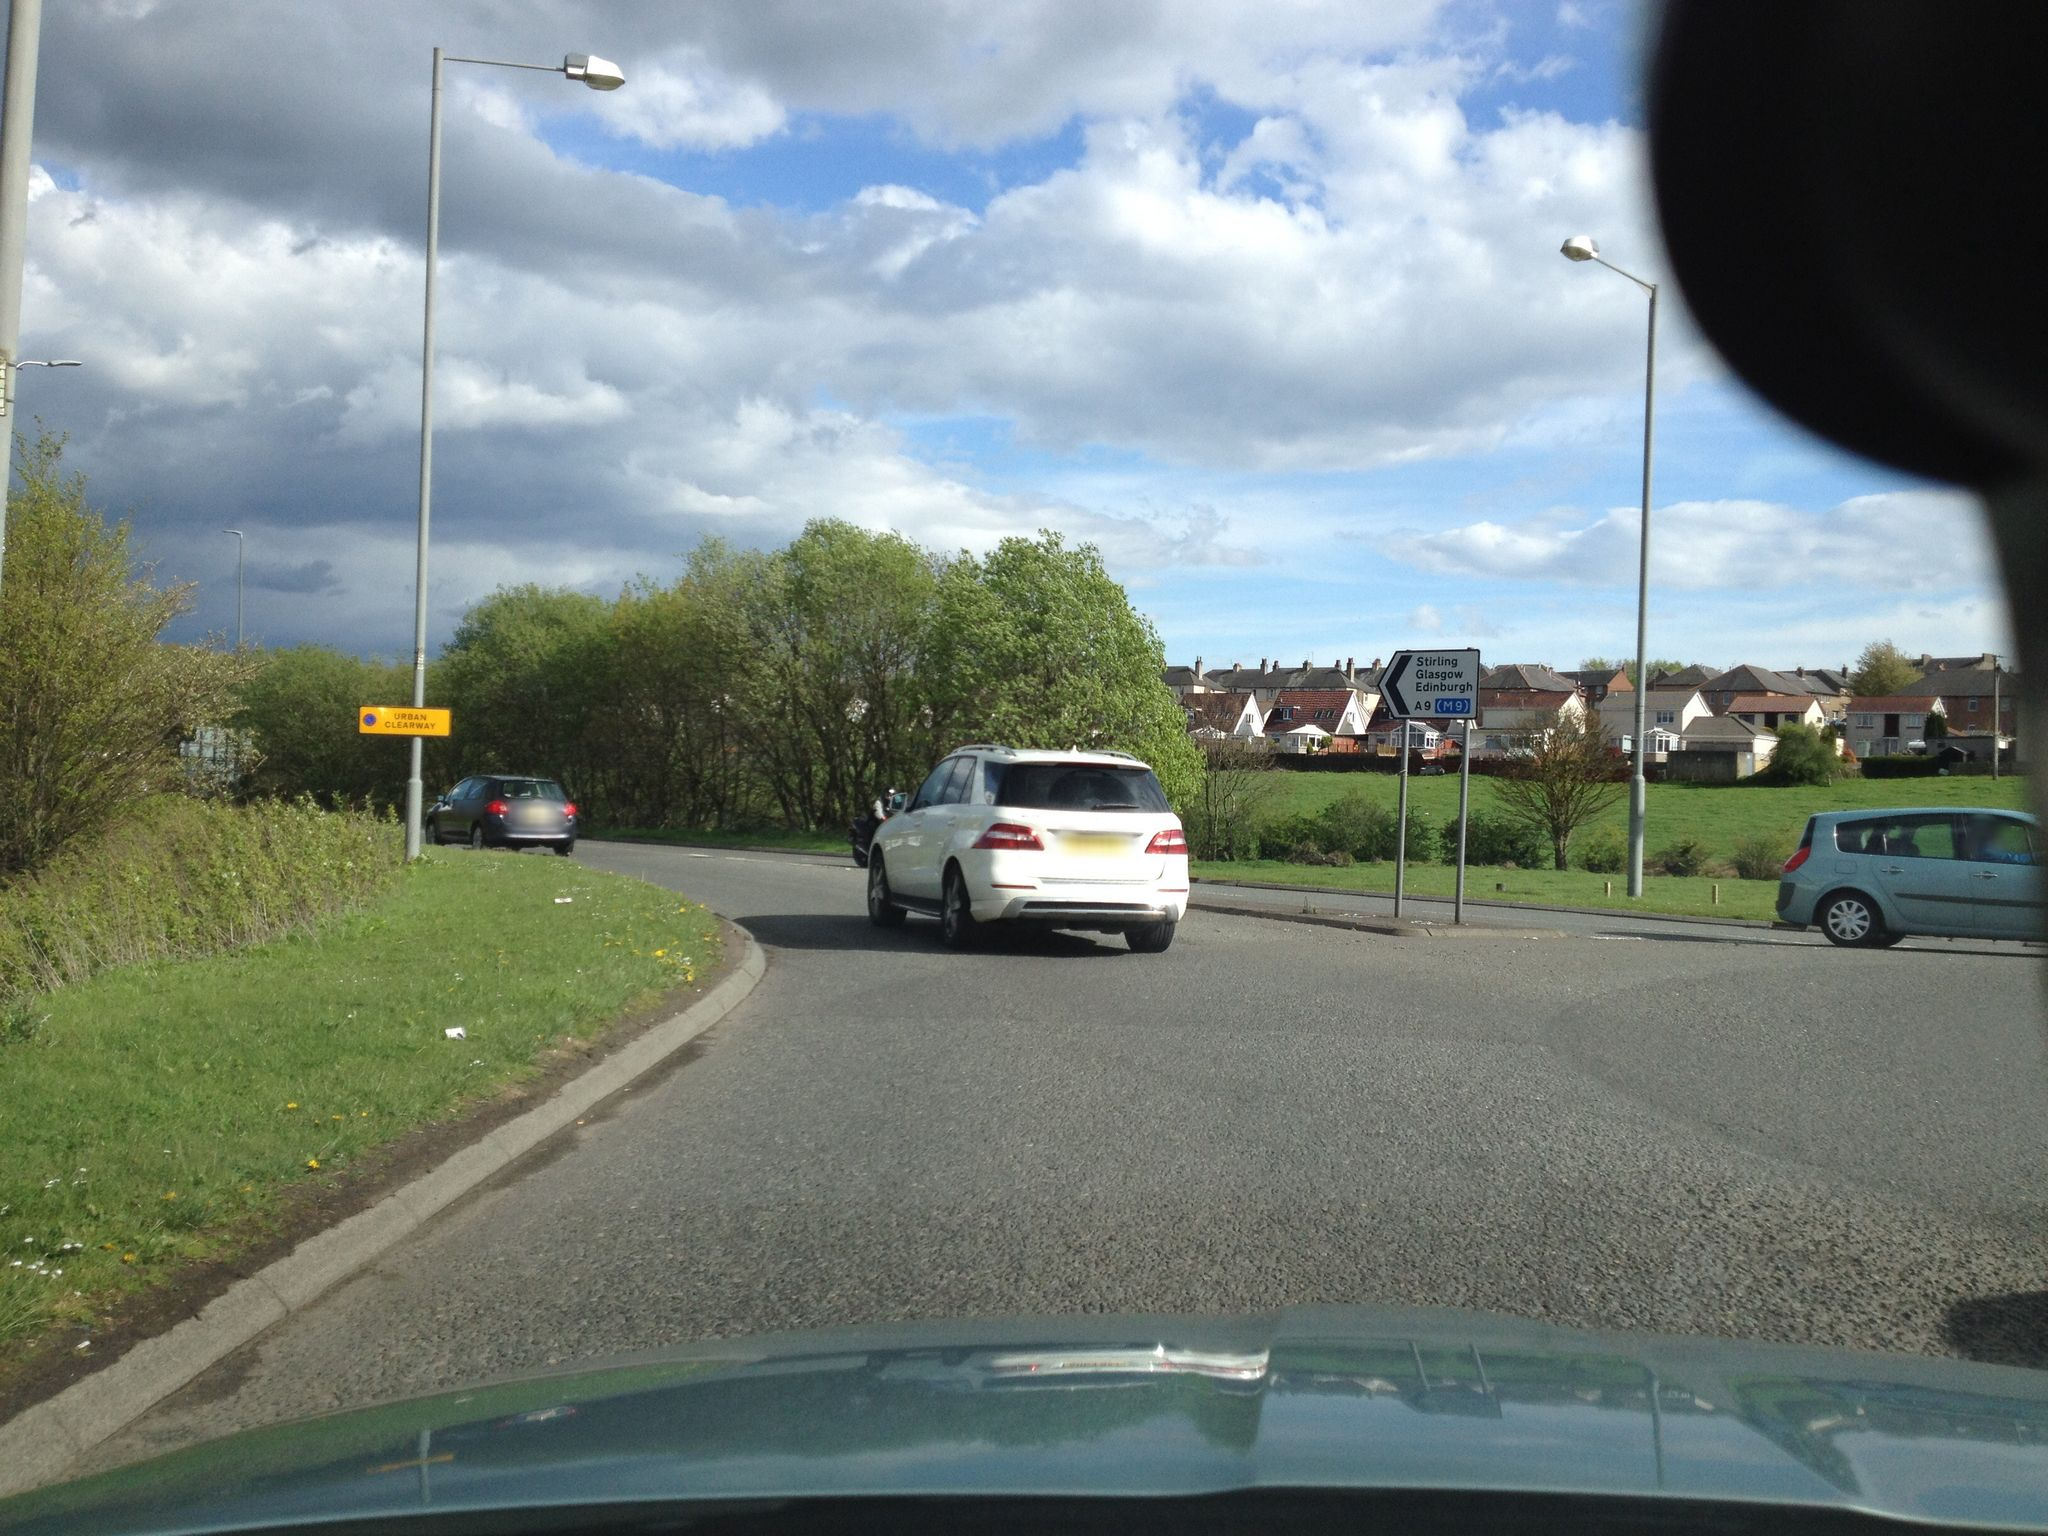car: (864, 742, 1192, 954), (1775, 803, 2046, 949), (423, 773, 576, 855)
